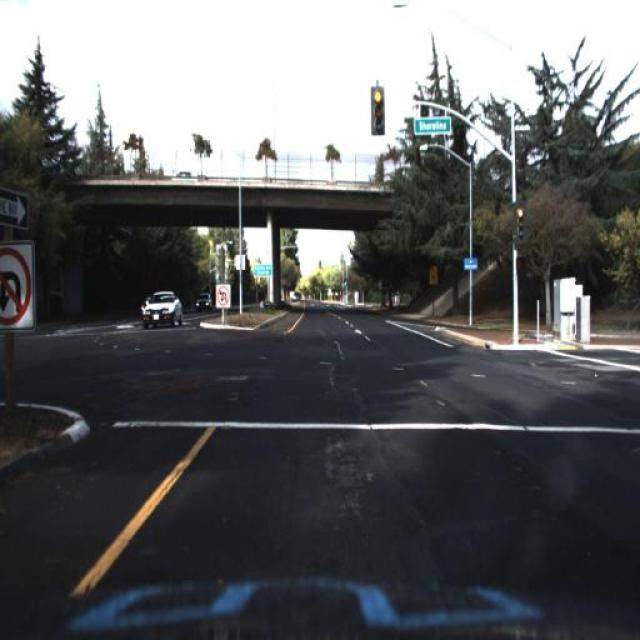car: (144, 288, 183, 328), (192, 289, 212, 317), (194, 284, 210, 312)
trafficLight-Green: (512, 204, 528, 242)
trafficLight-RedLeft: (374, 83, 384, 126)
